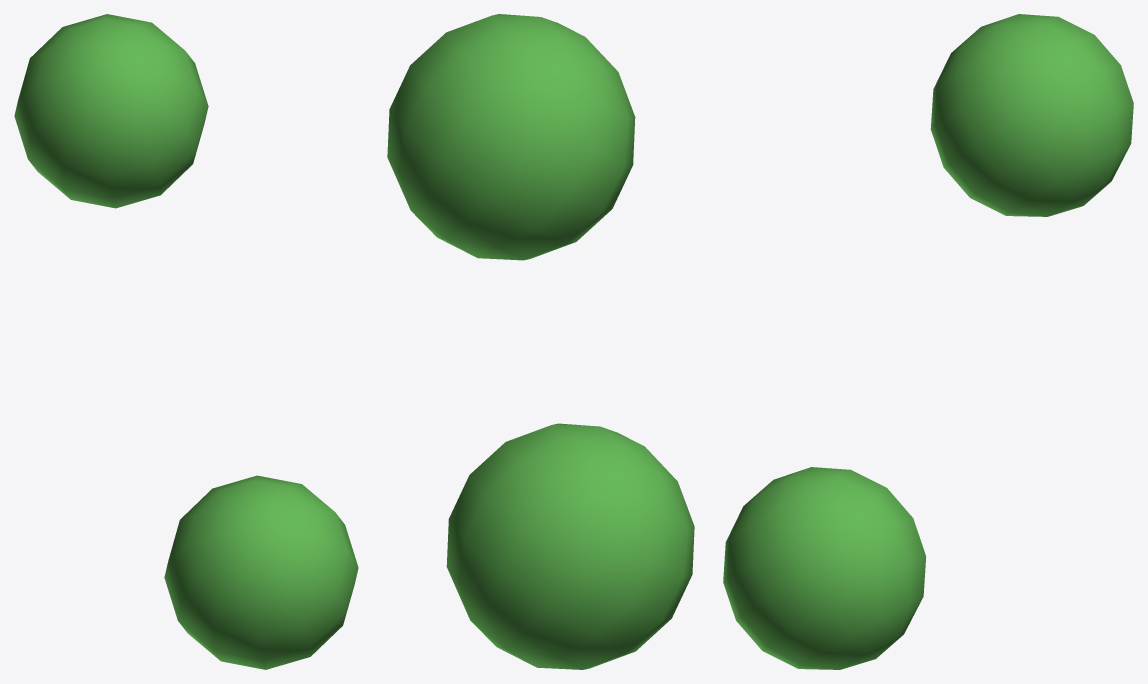
File: linfatico-lateral-axillary-nodes-r.glb
The picture shows the model from 3 angles, left to right: view 1: azimuth 30°, elevation 25°; view 2: azimuth 150°, elevation 25°; view 3: azimuth 270°, elevation 25°; orthographic projection. The views are drawn at different scales.
Parts seen in each view (by area): view 1: Lateral axillary nodes.r; view 2: Lateral axillary nodes.r; view 3: Lateral axillary nodes.r.
Part boxes in pixels (box(x1,y1,x2,y2)): Lateral axillary nodes.r: box(14, 14, 358, 669); Lateral axillary nodes.r: box(387, 14, 694, 669); Lateral axillary nodes.r: box(723, 14, 1133, 669).
Size of the model in its own units: 0.00339 by 0.0085 by 0.00517.
